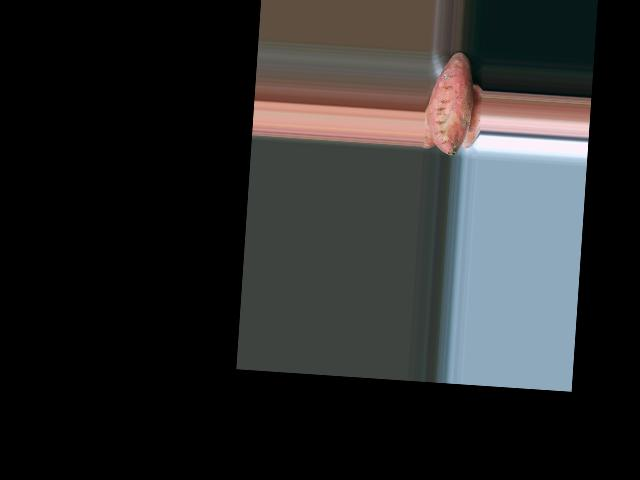sweet_potato: (428, 51, 471, 156)
